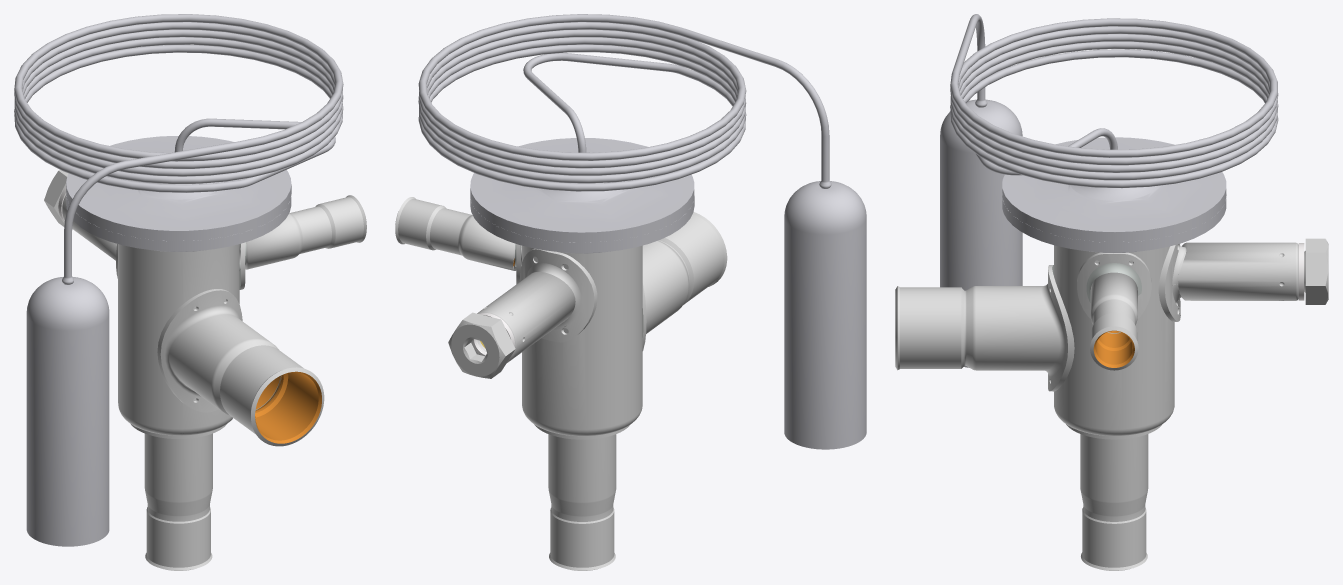
The model's file is DNM X001 D_AR.glb.
The picture shows the model from 3 angles, left to right: view 1: azimuth 30°, elevation 25°; view 2: azimuth 150°, elevation 25°; view 3: azimuth 270°, elevation 25°; orthographic projection.
Visible parts, largest first — view 1: Solid1.026, Solid1.025, Solid1, Solid1.003, Solid1.024, Solid1.023, Solid1.012, Solid1.035, Solid1.001, Solid1.010, Solid1.004; view 2: Solid1.026, Solid1.025, Solid1, Solid1.024, Solid1.023, Solid1.004, Solid1.003, Solid1.012, Solid1.010, Solid1.001; view 3: Solid1.026, Solid1.003, Solid1, Solid1.024, Solid1.025, Solid1.023, Solid1.004, Solid1.012, Solid1.001, Solid1.010, Solid1.034, Solid1.037.
Boxes of the visible parts, left/top/right/bottom form: Solid1.026: left=14, top=14, right=343, bottom=284; Solid1.025: left=26, top=277, right=109, bottom=546; Solid1: left=118, top=244, right=239, bottom=435; Solid1.003: left=157, top=289, right=324, bottom=446; Solid1.024: left=66, top=136, right=291, bottom=240; Solid1.023: left=131, top=424, right=226, bottom=570; Solid1.012: left=239, top=195, right=366, bottom=289; Solid1.035: left=255, top=371, right=321, bottom=443; Solid1.001: left=66, top=197, right=291, bottom=251; Solid1.010: left=44, top=170, right=68, bottom=226; Solid1.004: left=62, top=195, right=117, bottom=278; Solid1.026: left=418, top=14, right=831, bottom=191; Solid1.025: left=784, top=181, right=866, bottom=449; Solid1: left=522, top=245, right=642, bottom=436; Solid1.024: left=470, top=138, right=694, bottom=242; Solid1.023: left=534, top=424, right=630, bottom=570; Solid1.004: left=477, top=248, right=597, bottom=362; Solid1.003: left=642, top=212, right=727, bottom=350; Solid1.012: left=395, top=197, right=521, bottom=284; Solid1.010: left=448, top=312, right=515, bottom=378; Solid1.001: left=470, top=195, right=694, bottom=253; Solid1.026: left=950, top=14, right=1278, bottom=188; Solid1.003: left=895, top=265, right=1074, bottom=391; Solid1: left=1054, top=245, right=1174, bottom=435; Solid1.024: left=1002, top=137, right=1226, bottom=241; Solid1.025: left=940, top=99, right=1022, bottom=367; Solid1.023: left=1066, top=424, right=1162, bottom=570; Solid1.004: left=1158, top=242, right=1298, bottom=321; Solid1.012: left=1077, top=252, right=1151, bottom=370; Solid1.001: left=1002, top=198, right=1226, bottom=252; Solid1.010: left=1304, top=238, right=1328, bottom=304; Solid1.034: left=1093, top=330, right=1134, bottom=367; Solid1.037: left=1086, top=253, right=1141, bottom=302.
Bounding box in the file's own units: 0.0781 × 0.0915 × 0.0752.
